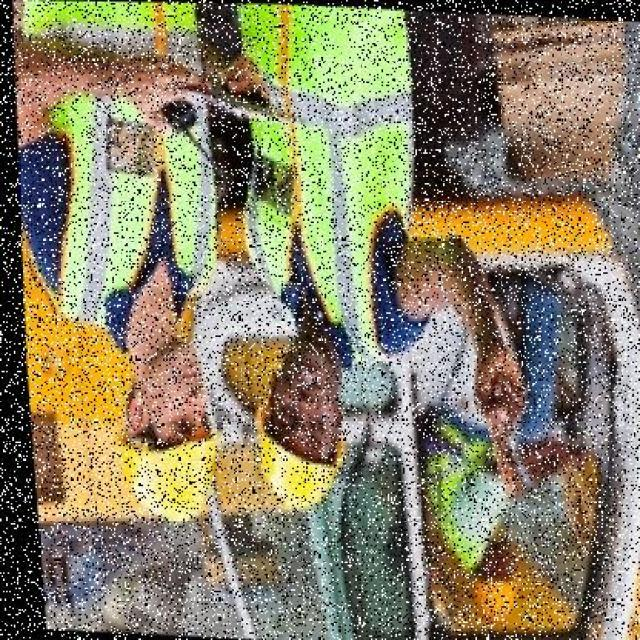helmet: (95, 403, 227, 526), (236, 382, 348, 512)
vest: (0, 0, 226, 348), (216, 3, 426, 363)
